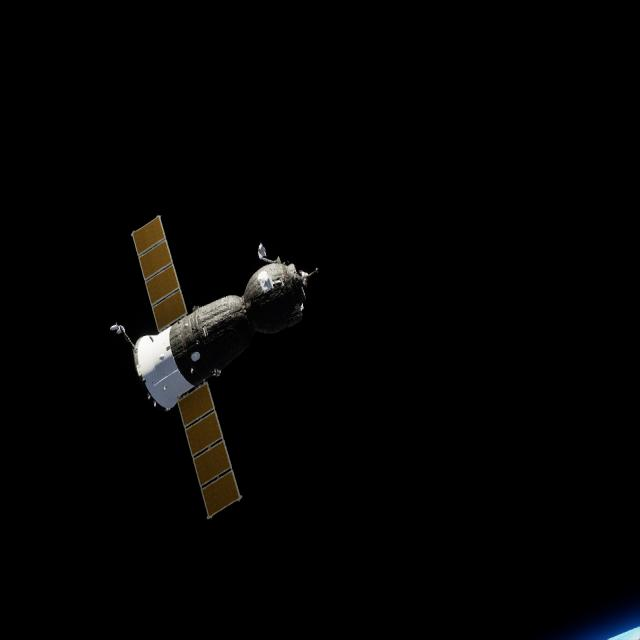Satellites revolving around earth: (107, 210, 321, 521)
